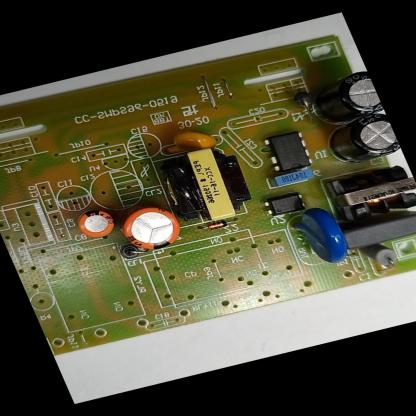Cap1: (110, 201, 188, 257)
Cap2: (72, 205, 122, 242)
Cap3: (321, 110, 402, 168)
Cap4: (302, 69, 384, 127)
MOSFET: (258, 129, 316, 175)
Mov: (280, 199, 355, 271)
Resistor: (356, 239, 402, 274)
Transformer: (156, 140, 264, 230), (324, 162, 416, 223)
